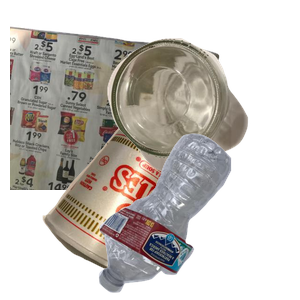glass: (105, 36, 300, 201)
paper: (10, 21, 222, 201)
plastic: (96, 131, 300, 300)
trash: (40, 121, 221, 300)
